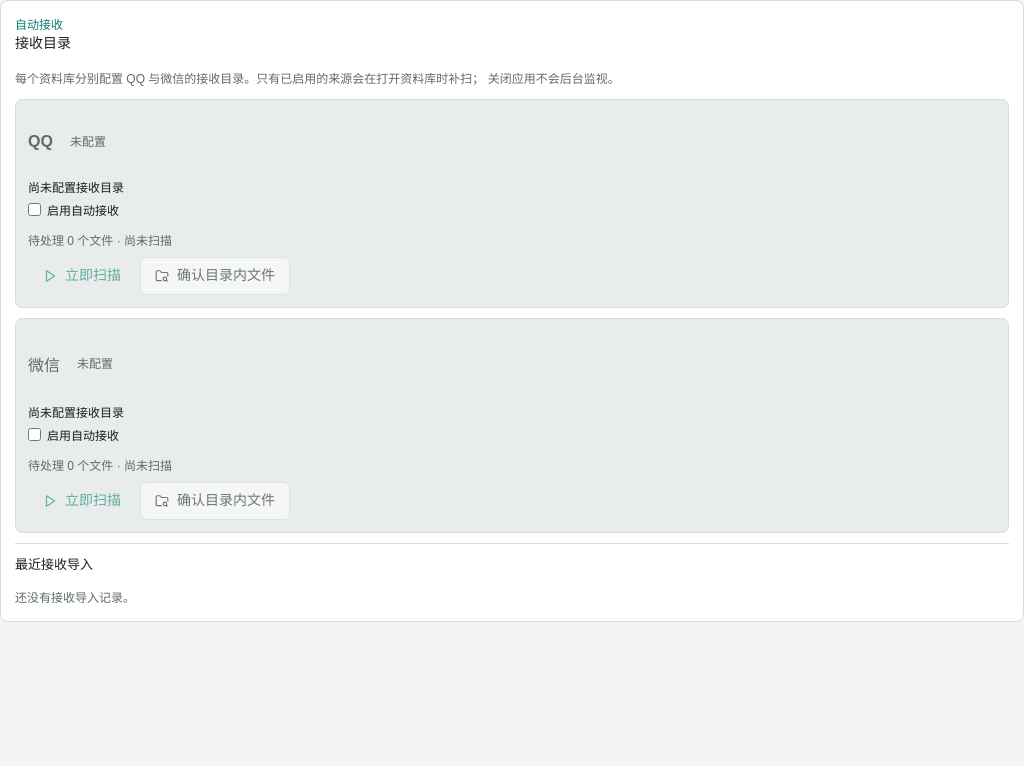
Test: 接收目录配置 › asks the user to confirm a candidate directory before enabling an unconfigured source
Expected: the heading "QQ" is shown, [28,133,53,151]
Expected: the text "尚未配置接收目录" is shown 2 times, [28,181,124,195]; [28,406,124,420]
Step 1. Click the checkbox named "启用 QQ 接收目录" → {"x": 34, "y": 210}, box [28,203,41,216]
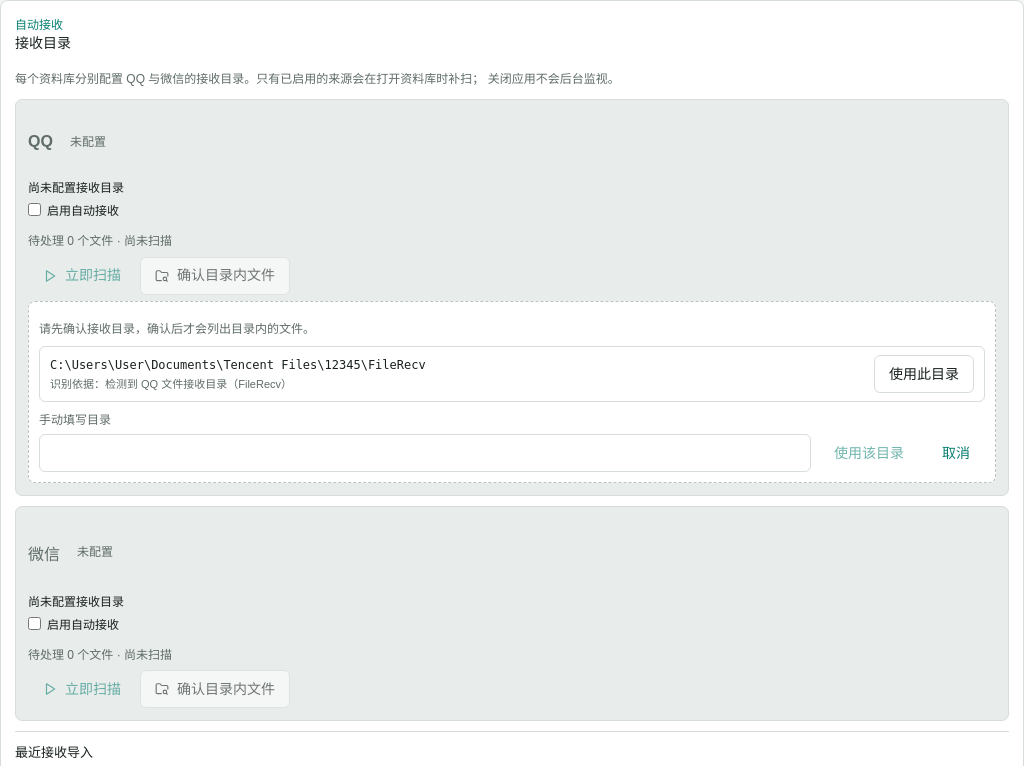
Expected: the text "C:\\Users\\User\\Documents\\Tencent Files\\12345\\FileRecv" is shown, [50,358,426,372]
Expected: the text "识别依据：检测到 QQ 文件接收目录（FileRecv）" is shown, [50,378,292,390]
Step 2. Click the button with aria-label "使用候选目录" → {"x": 924, "y": 374}, box [874,355,974,393]
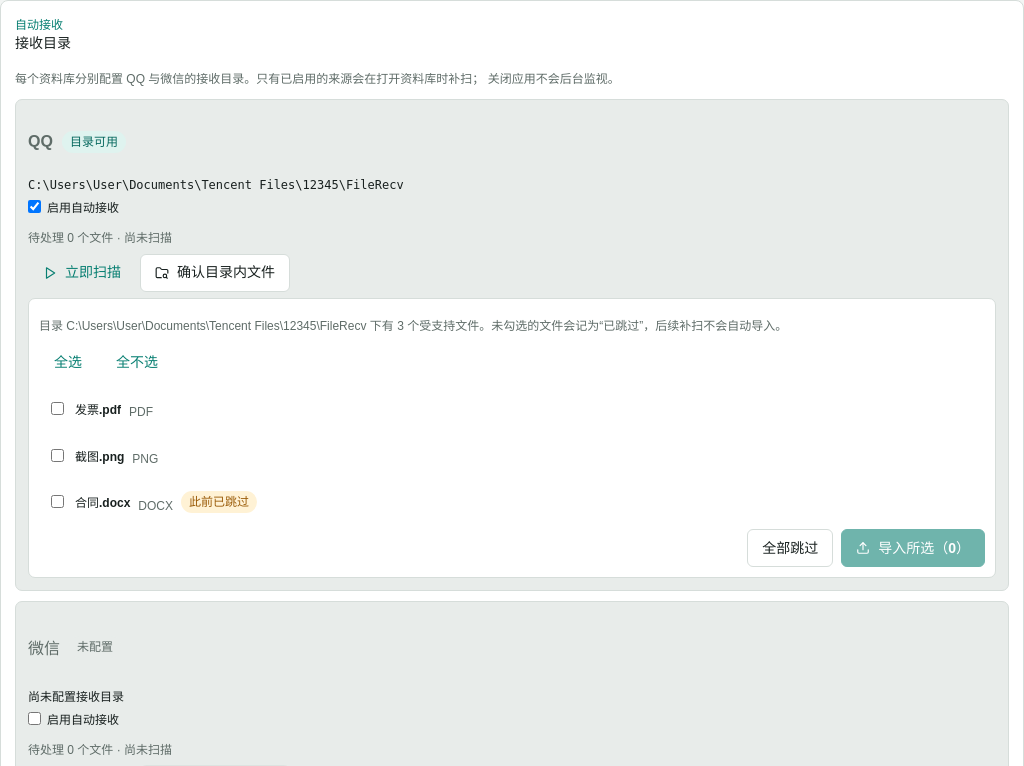
Expected: the element named "QQ 目录文件清单" is shown, [28,298,996,578]
